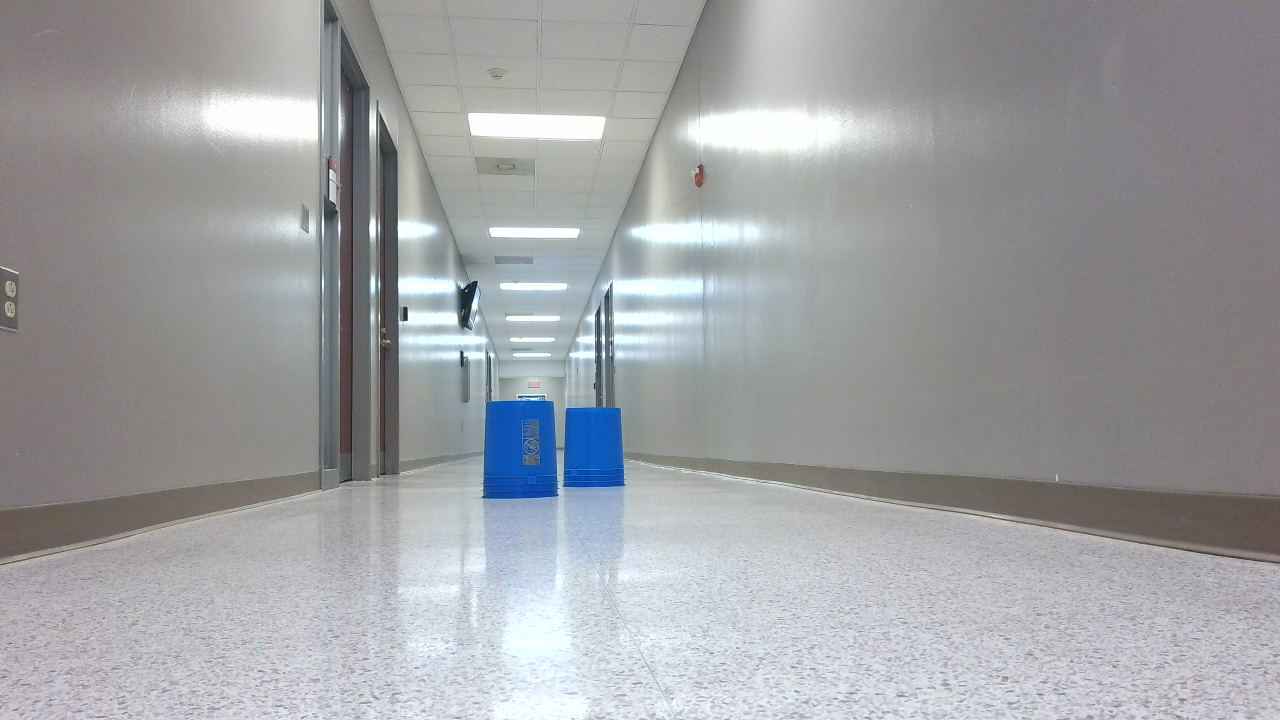blue_bucket: (486, 403, 564, 505), (568, 409, 631, 495)
